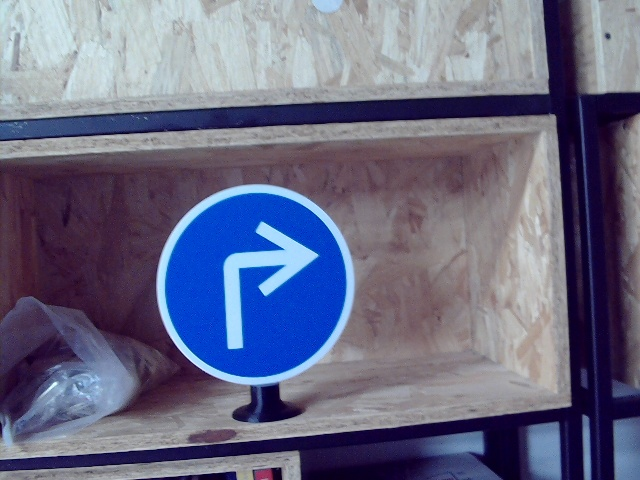turn_right: (210, 223, 321, 348)
